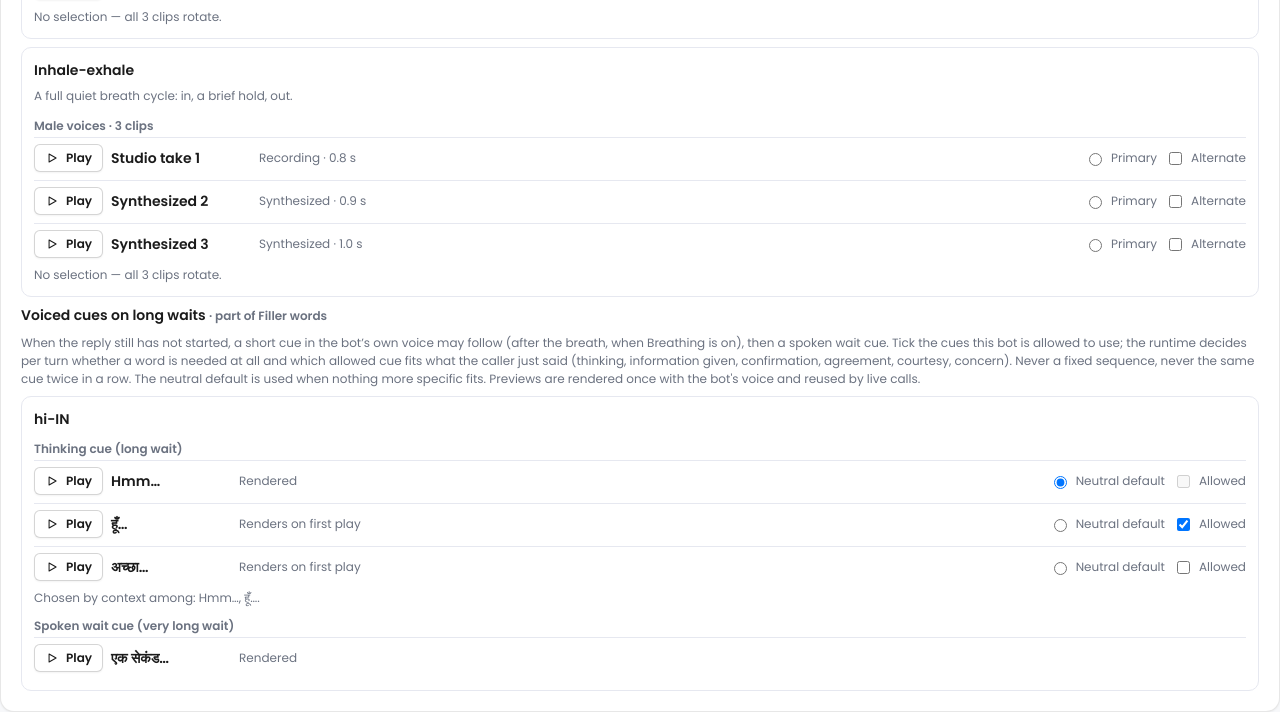
Scenario: FillerAudioLibrary › surfaces a failed preview instead of playing silence
The width and height of the screenshot is (1280, 712).
(page scrolled)
Click the button with aria-label "Play Thinking cue (long wait) · hi-IN · अच्छा…": (68, 567) [34,553,103,581]
(page scrolled)
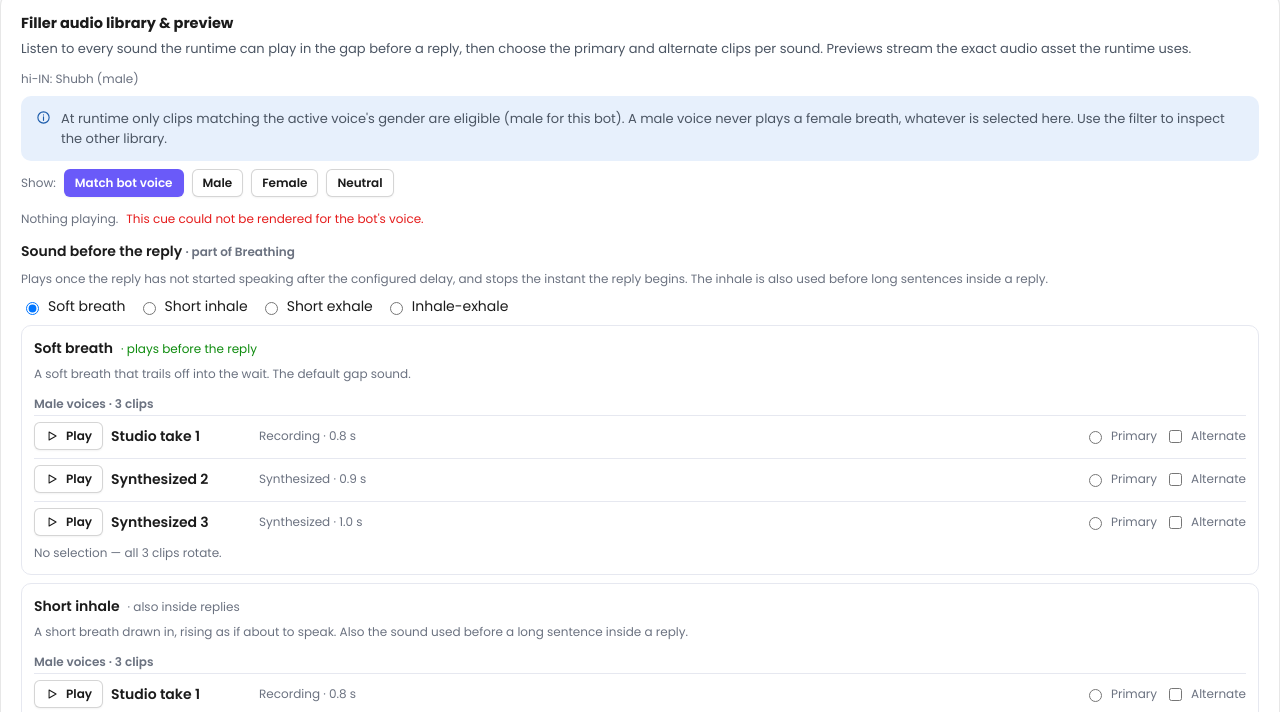
Expected: the text "This cue could not be rendered for the bot's voice." is shown, [126,210,424,228]
